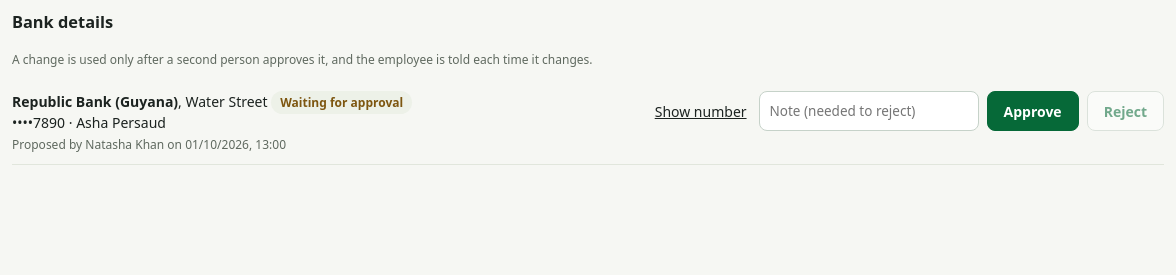
Test: bank details › lets a second person approve, and says the employee was told
The image size is (1176, 275).
What coordinates should you click on to do the following:
click the button "Approve"
I would click on:
 (1033, 111)
Its box is [987, 91, 1079, 131].
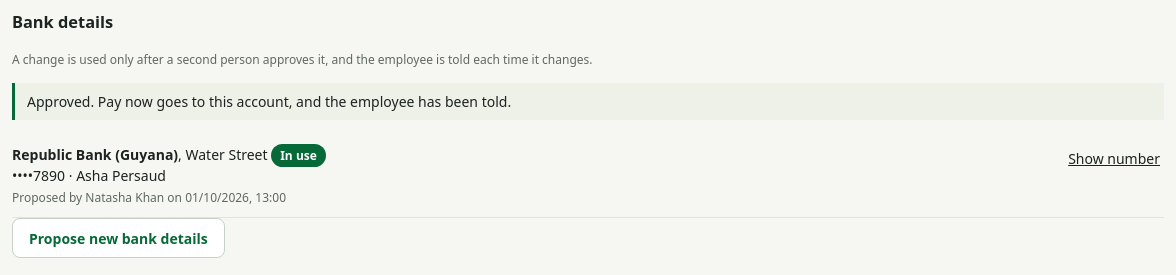
Result: the message shows "the employee has been told" at [27, 92, 511, 111]
